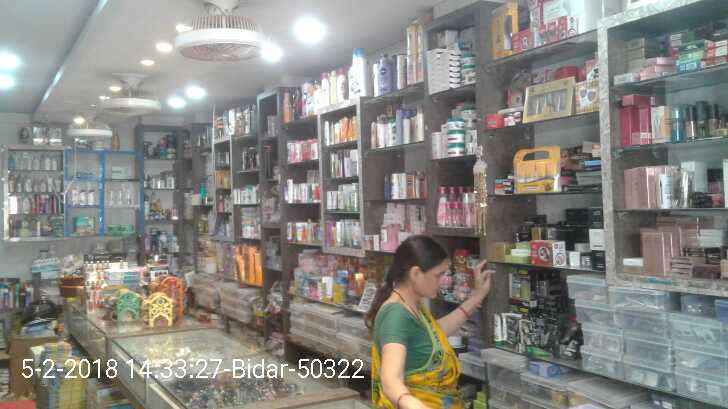beauty: (78, 190, 87, 208), (88, 187, 95, 205)
pharmacy: (75, 216, 96, 233), (119, 222, 134, 233), (105, 222, 119, 231)
